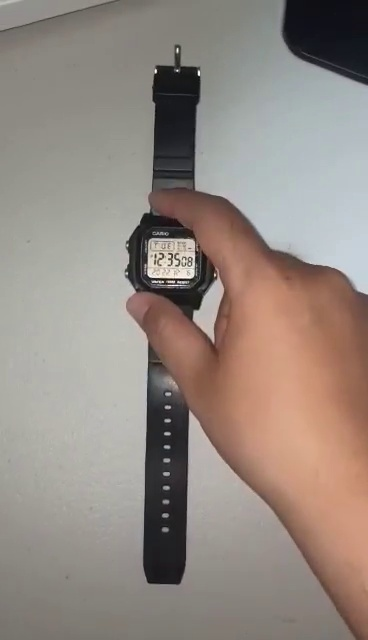hand: (125, 188, 368, 492)
watch: (123, 46, 219, 587)
